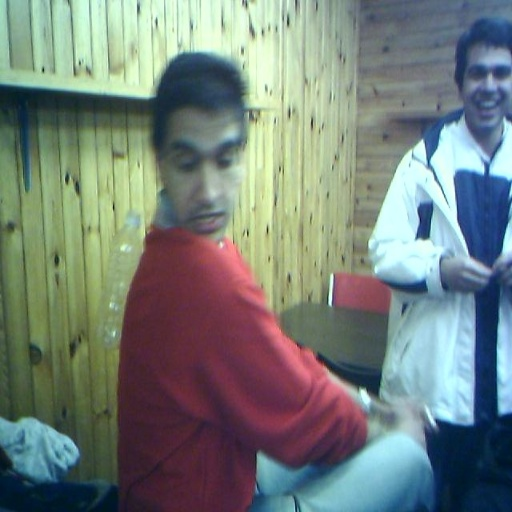hand: (443, 252, 493, 290), (384, 403, 433, 428), (489, 251, 511, 288)
